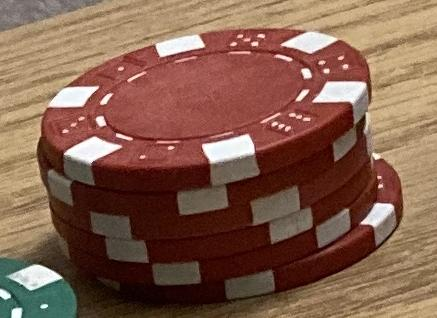Chip: (2, 2, 437, 318)
